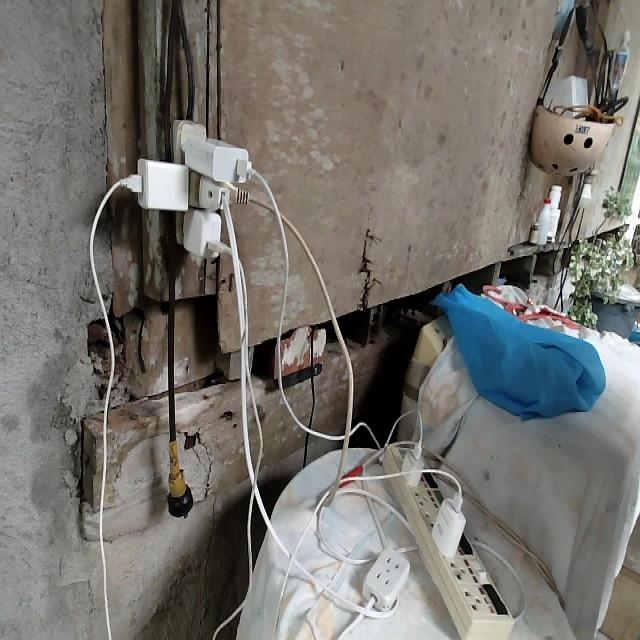-: (130, 120, 252, 257)
